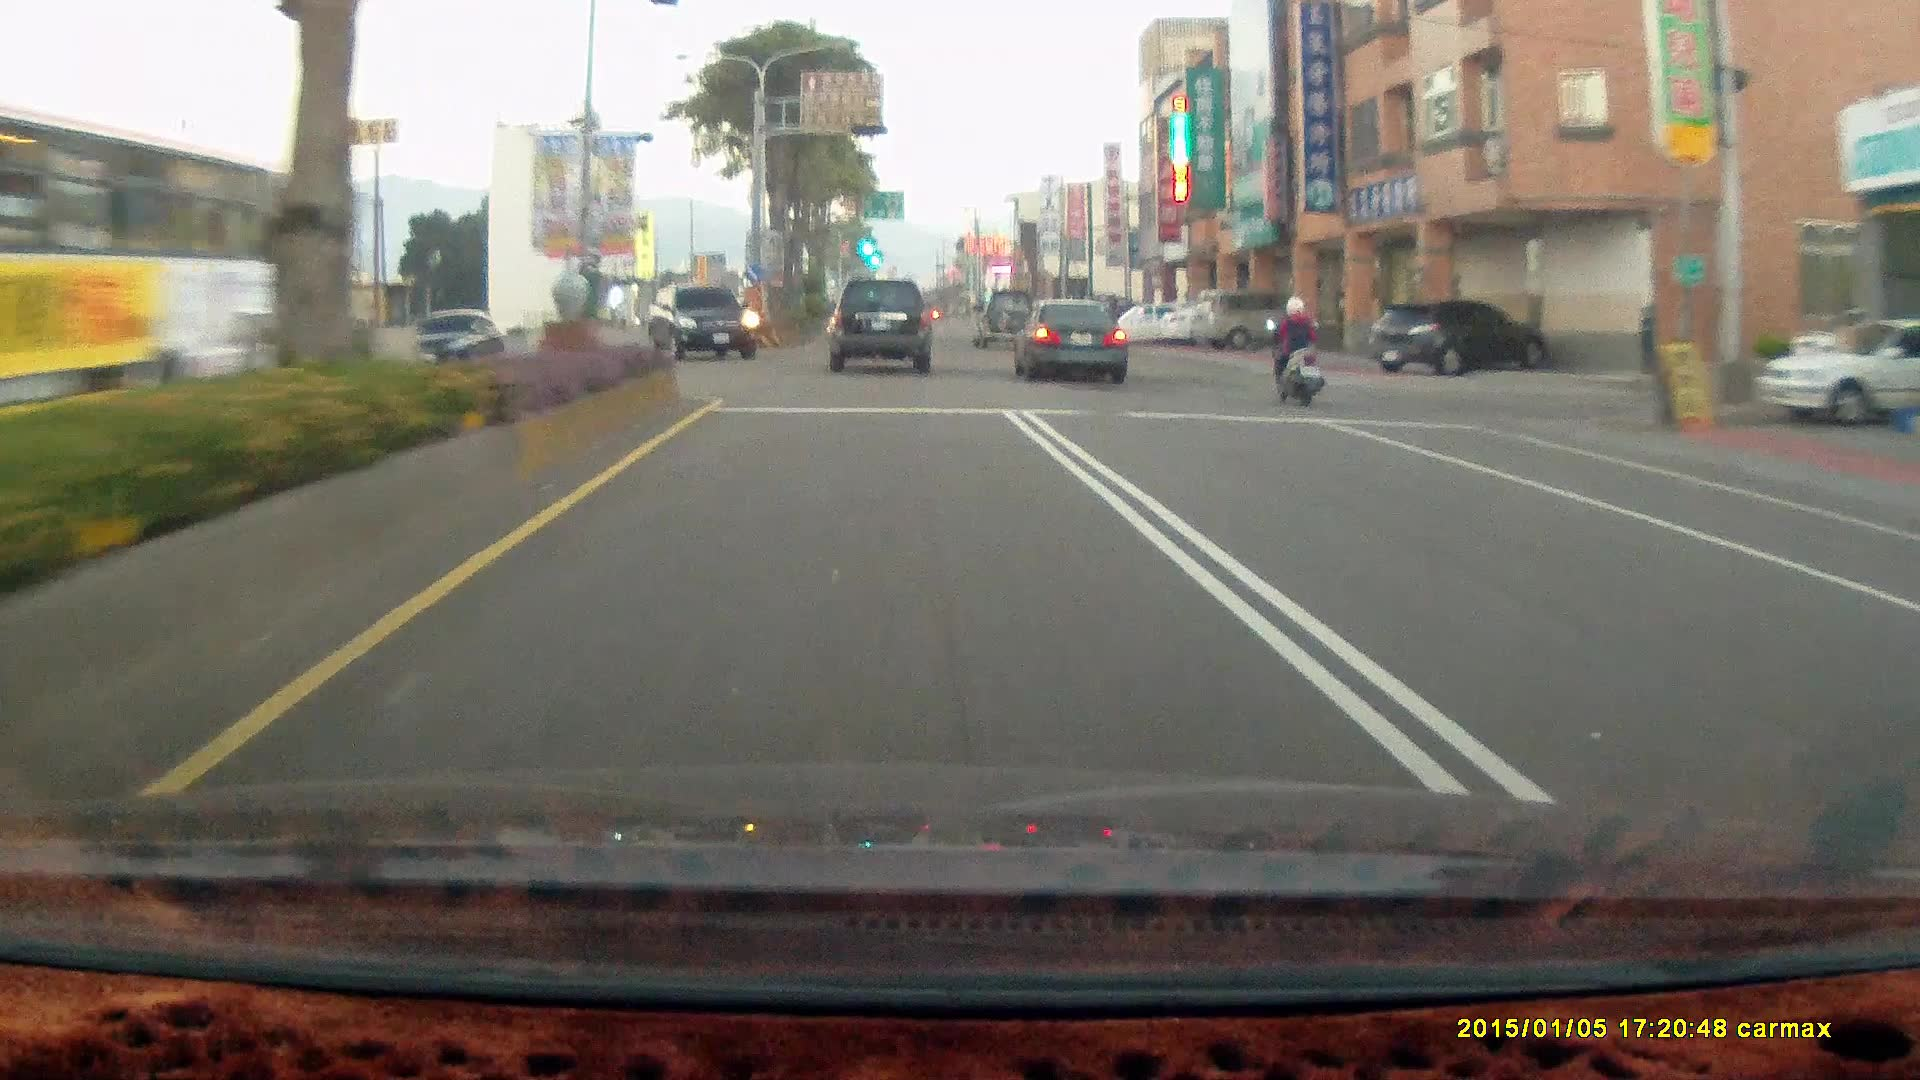rider: (1255, 285, 1337, 419), (1267, 299, 1326, 409)
vehicle: (0, 109, 280, 458), (1756, 320, 1920, 427), (1757, 328, 1920, 428), (1365, 300, 1550, 377), (1369, 301, 1551, 377), (826, 281, 933, 377), (1009, 296, 1127, 382), (827, 276, 931, 372), (1010, 300, 1129, 385), (644, 281, 757, 361), (646, 291, 760, 365), (394, 307, 505, 374), (1187, 290, 1307, 351), (1186, 293, 1299, 355), (1100, 300, 1202, 347), (971, 289, 1038, 351)
